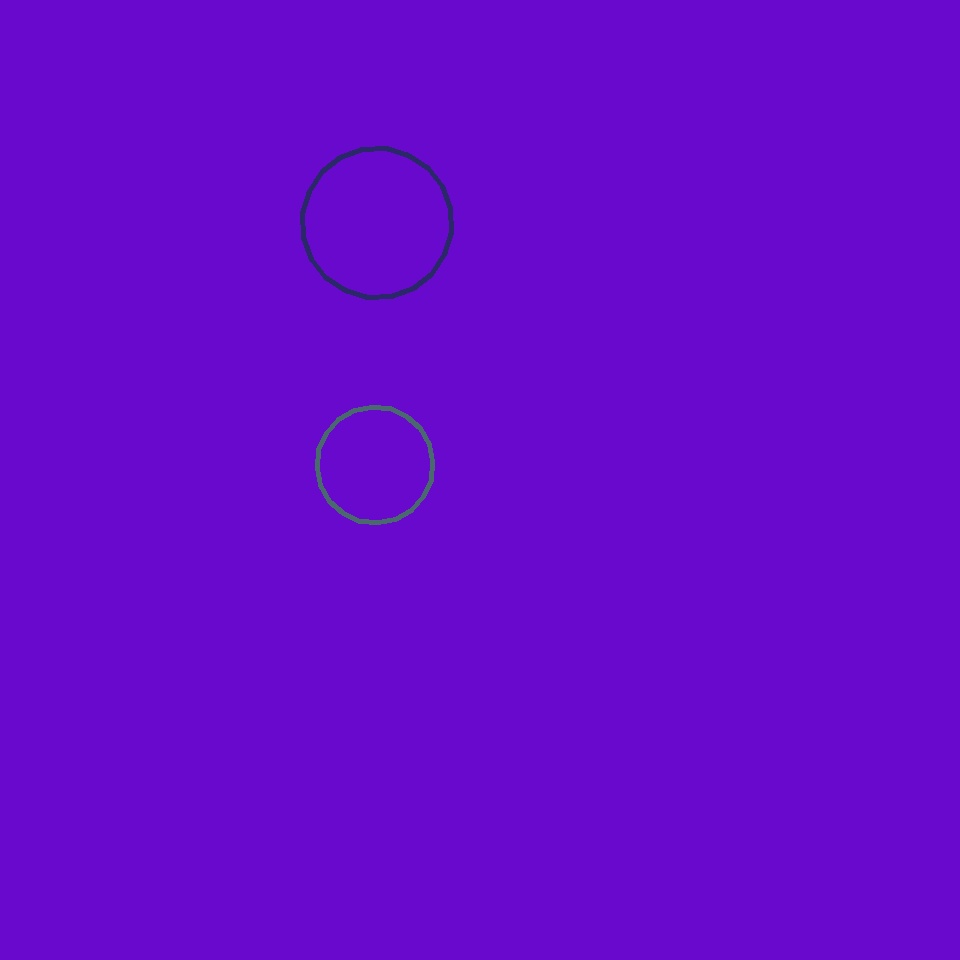triangle: (302, 148, 452, 298), (318, 408, 432, 522)
